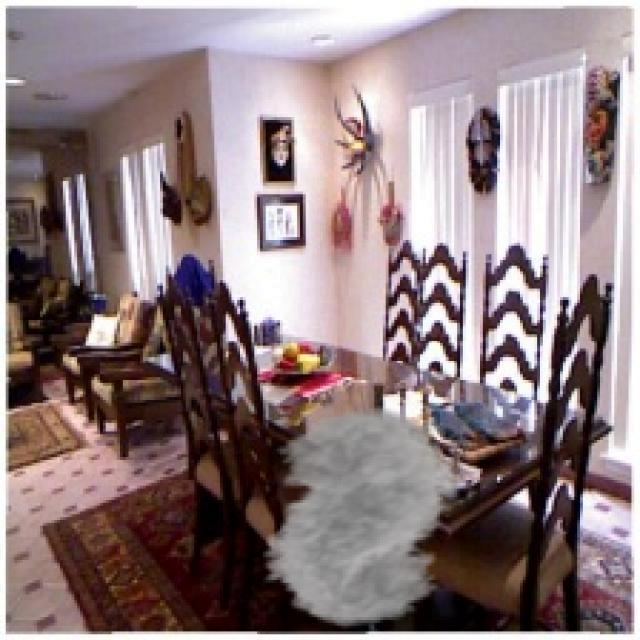no_helmet: (237, 406, 480, 629)
